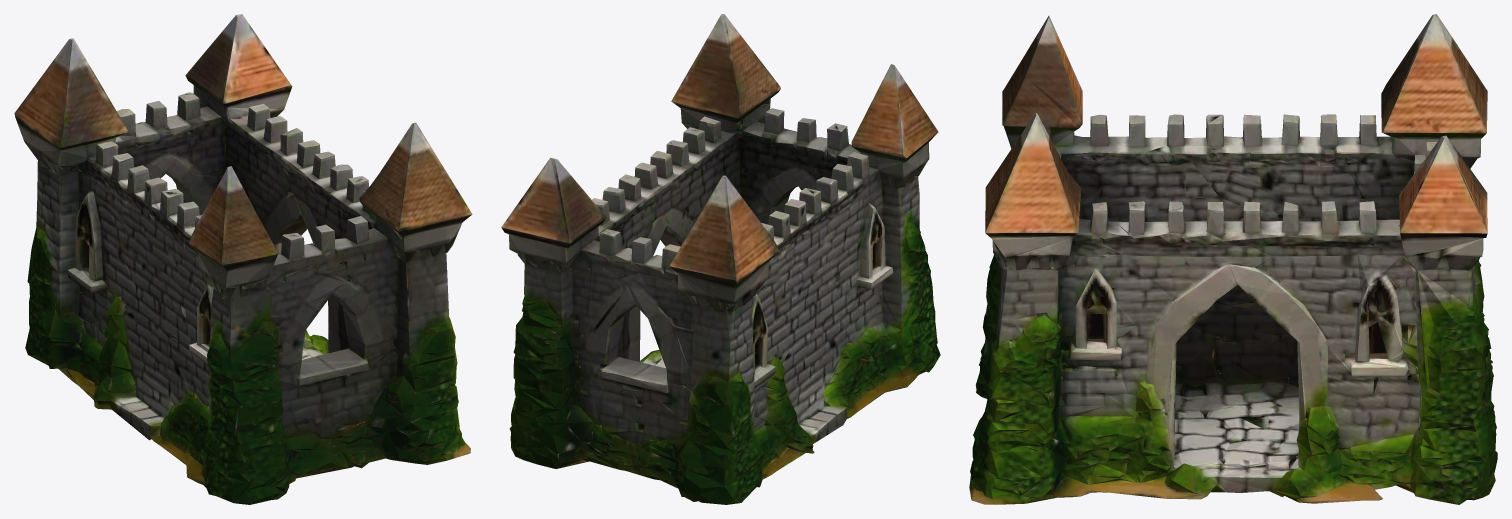
File: nature_rock_small_01.glb
3 views of the same model, side by side, from view 1: azimuth 30°, elevation 25°; view 2: azimuth 150°, elevation 25°; view 3: azimuth 270°, elevation 25° (orthographic). The views are drawn at different scales.
Visible parts, largest first — view 1: geometry_0; view 2: geometry_0; view 3: geometry_0.
Boxes of the visible parts, x1,y1,x2,y2 form: geometry_0: [14, 14, 472, 504]; geometry_0: [501, 14, 940, 504]; geometry_0: [969, 14, 1497, 504].
Bounding box in the file's own units: 0.6253 × 0.7941 × 0.9987.
Materials: 1 (1 with a texture image).
